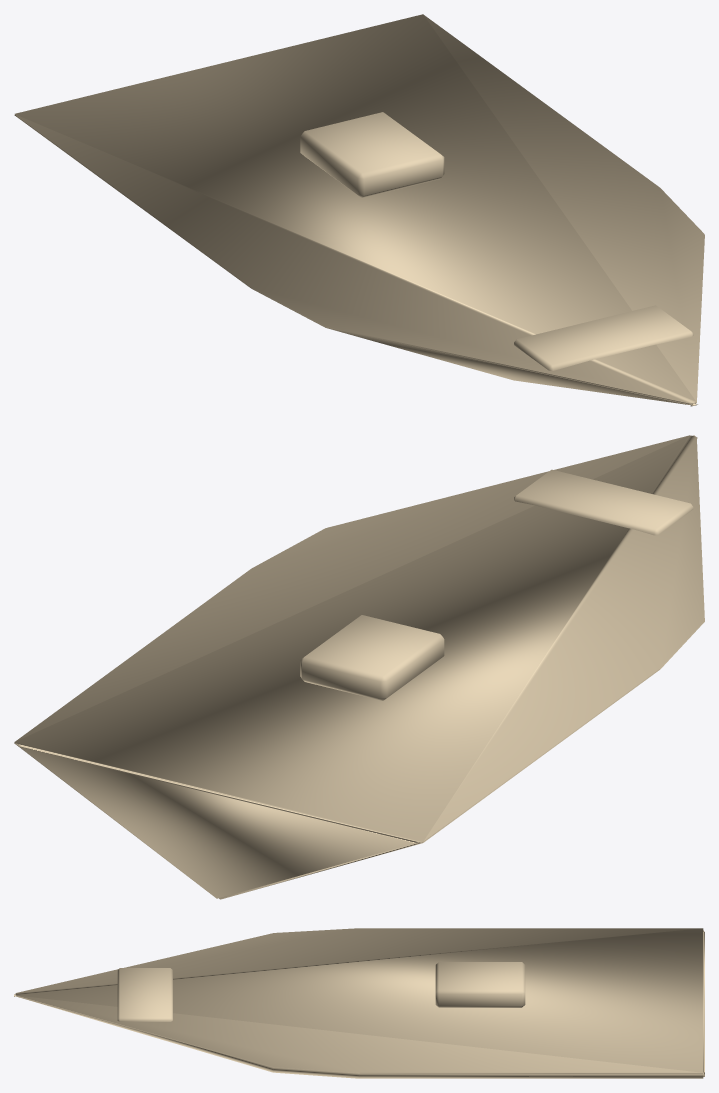
Rendered from skiff_main_tidemark.glb.
3 renders of one model, top to bottom at view 1: azimuth 30°, elevation 25°; view 2: azimuth 150°, elevation 25°; view 3: azimuth 270°, elevation 25°, orthographic. The views are drawn at different scales.
Parts seen in each view (by area): view 1: skiff_main_tidemark; view 2: skiff_main_tidemark; view 3: skiff_main_tidemark.
Part boxes in pixels (x1,y1,x2,y2): skiff_main_tidemark: (14,14,704,406); skiff_main_tidemark: (14,435,704,899); skiff_main_tidemark: (14,928,704,1078).
Bounding box in the file's own units: 2.97 × 0.9809 × 6.
